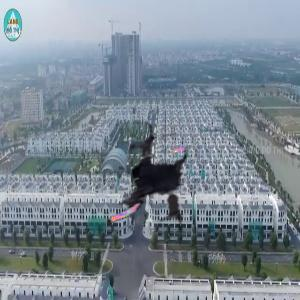drone: (76, 118, 210, 252)
